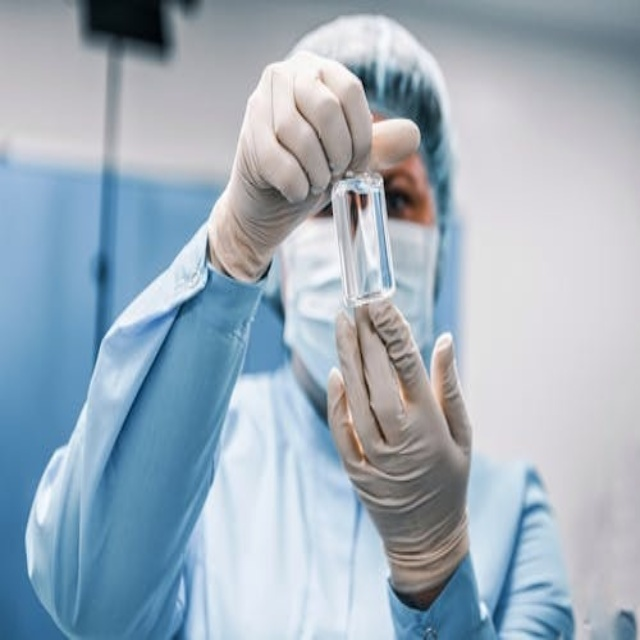Guantes: (212, 47, 408, 284), (327, 294, 475, 600)
Mascara: (279, 207, 439, 413)
